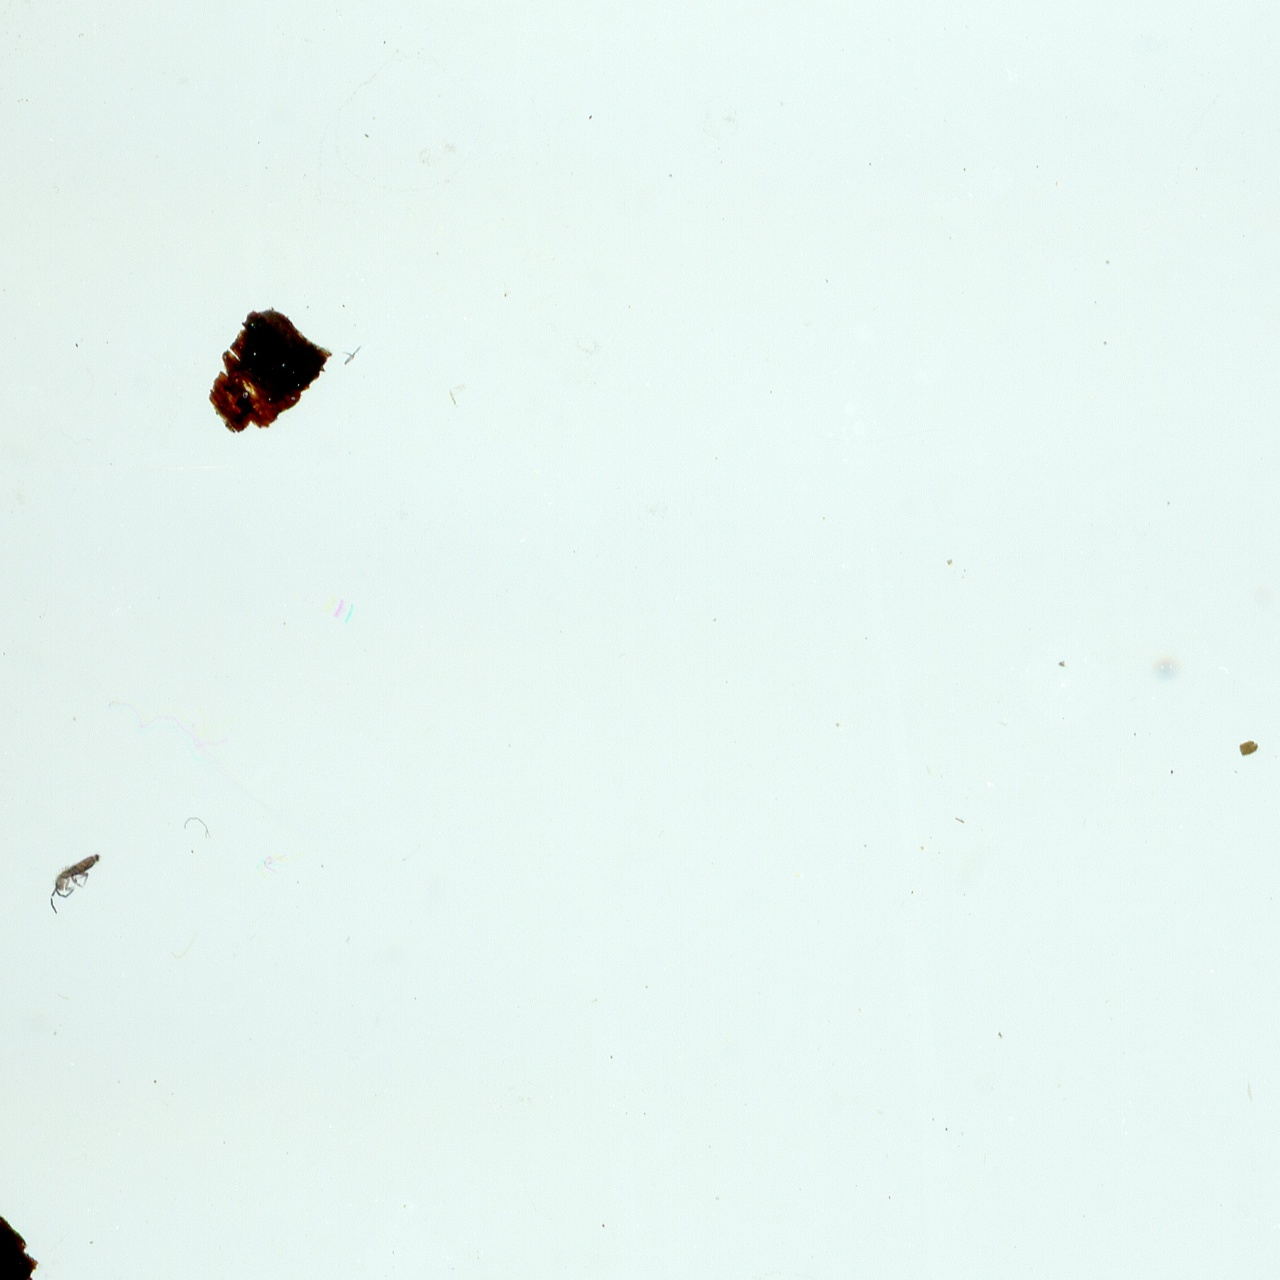arthropod: (29, 840, 124, 922)
